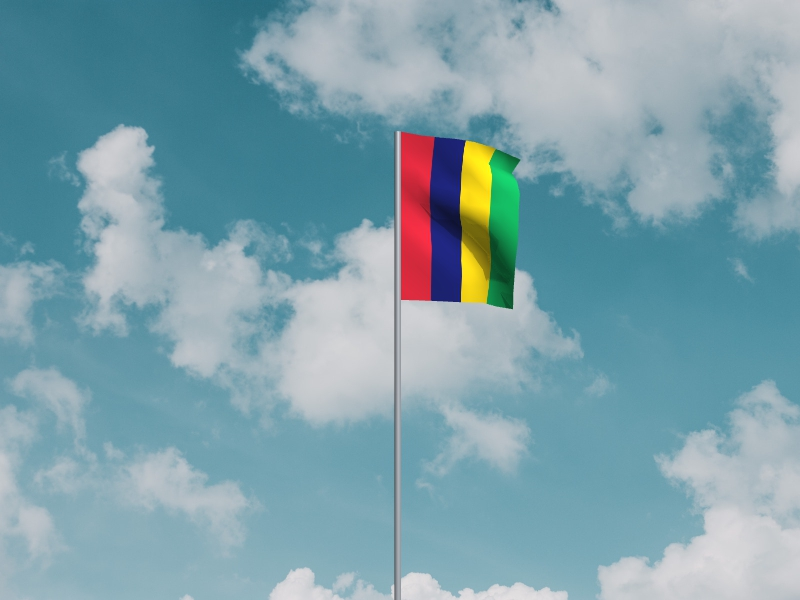mu: (401, 133, 522, 311)
